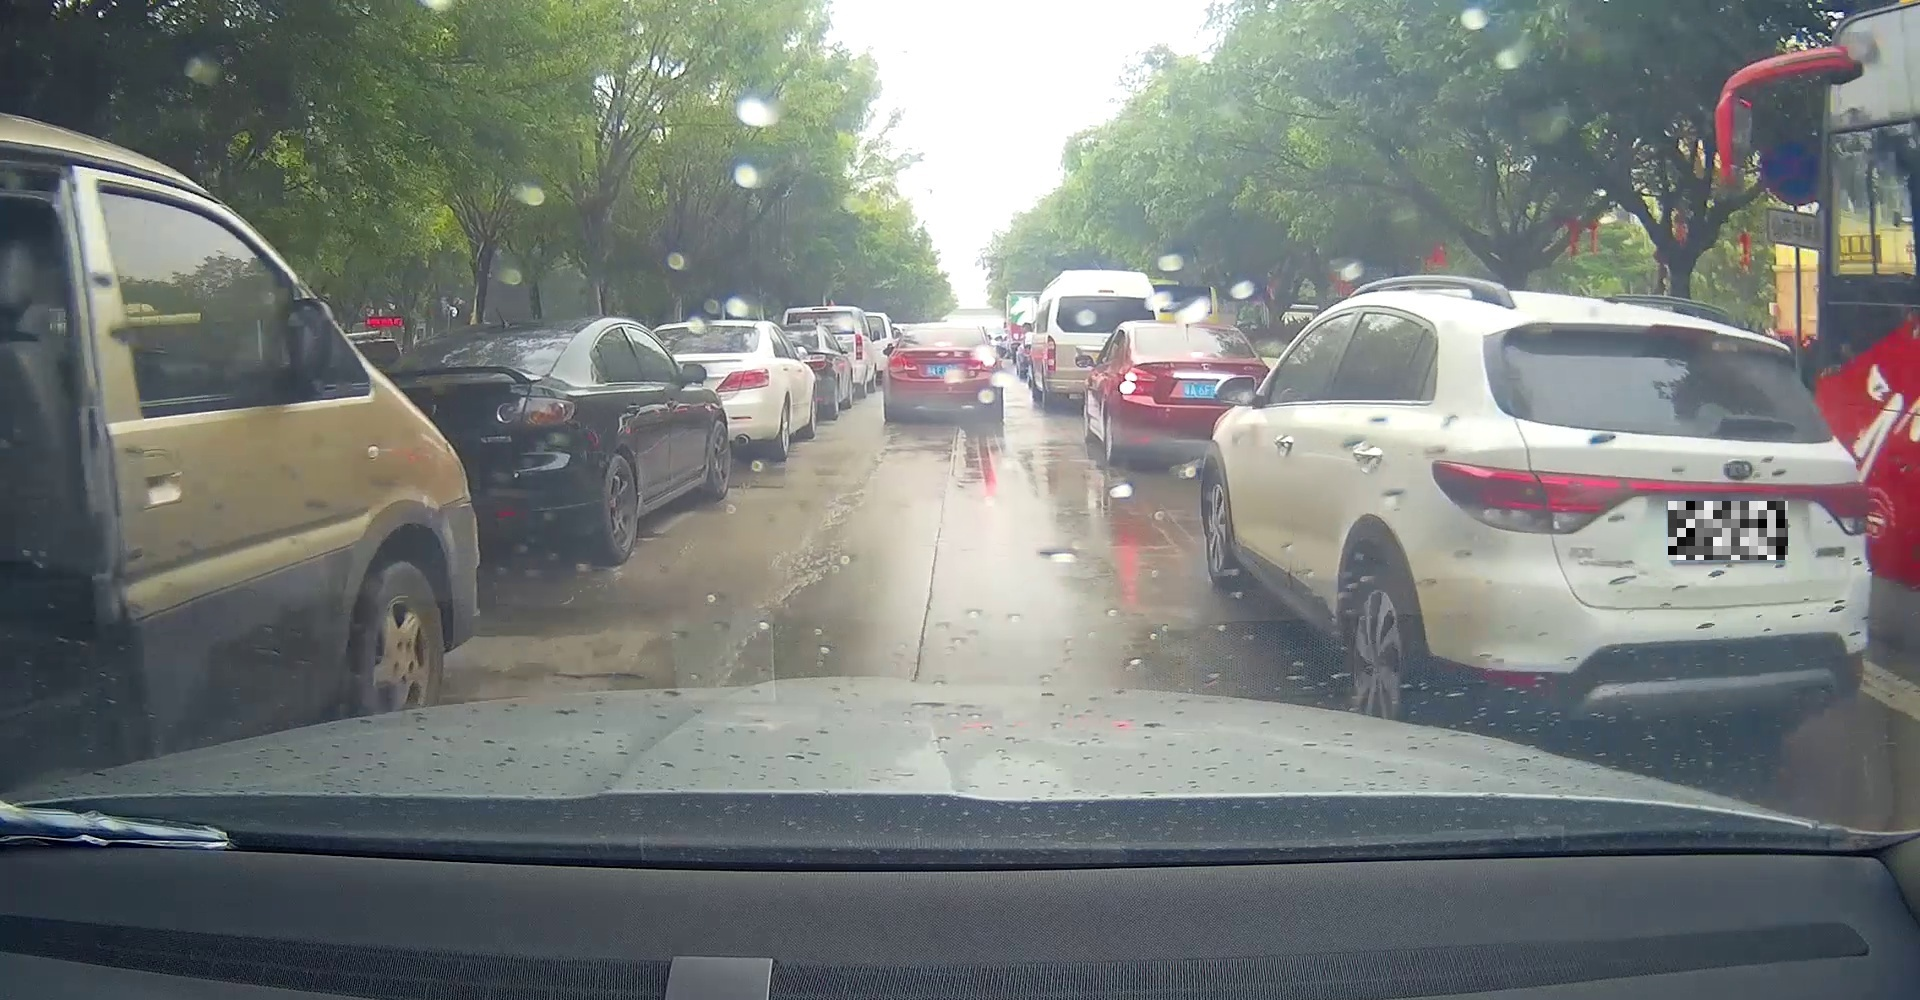L_light: (1432, 459, 1627, 534), (888, 357, 918, 371)
R_light: (1811, 482, 1868, 536), (969, 358, 996, 372)
T_light: (1647, 322, 1717, 341), (935, 340, 952, 348)
day-no: (1429, 291, 1872, 740)
day-right: (883, 326, 1002, 423)
plate_1: (1669, 501, 1788, 560)
